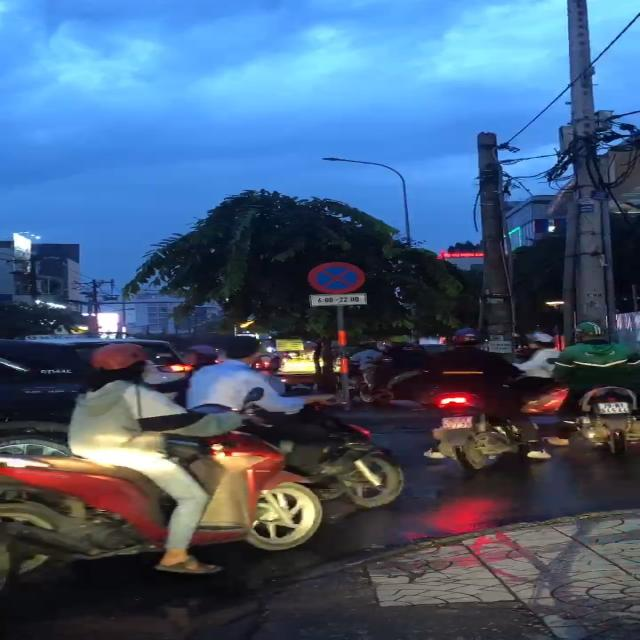Bien bao cam dung xe va do xe: (303, 260, 372, 296)
